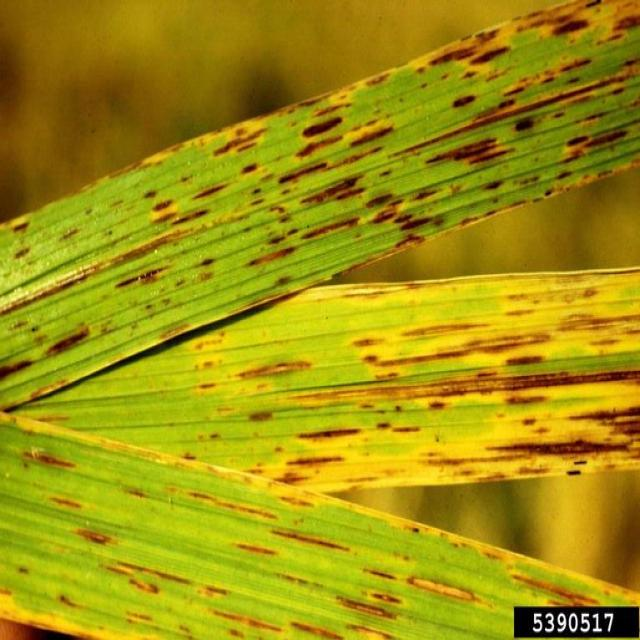Brown spot: (1, 0, 640, 640)
